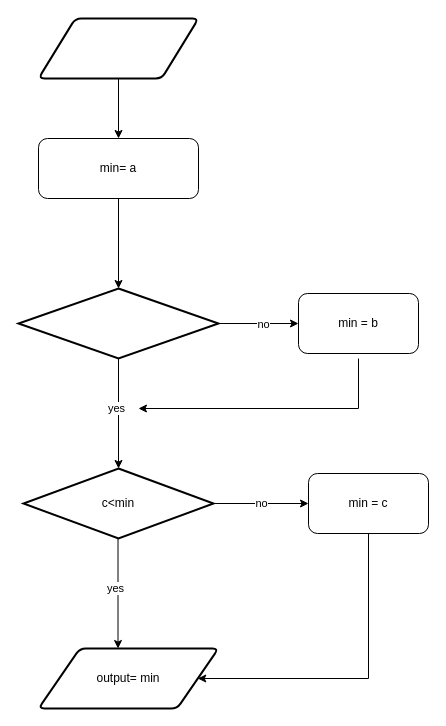
The diagram is 446 pixels wide and 726 high, and some of its shapes have lost their labels. Here are the shapes that lost their labels. From the top down, the box of each, then its label:
(37, 17, 199, 79): input a, b, c
(17, 287, 219, 359): b<min
